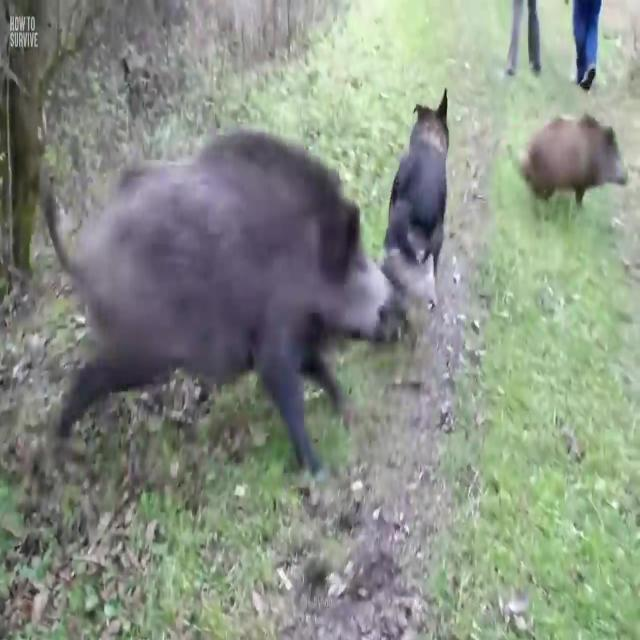pig: (45, 80, 390, 506)
